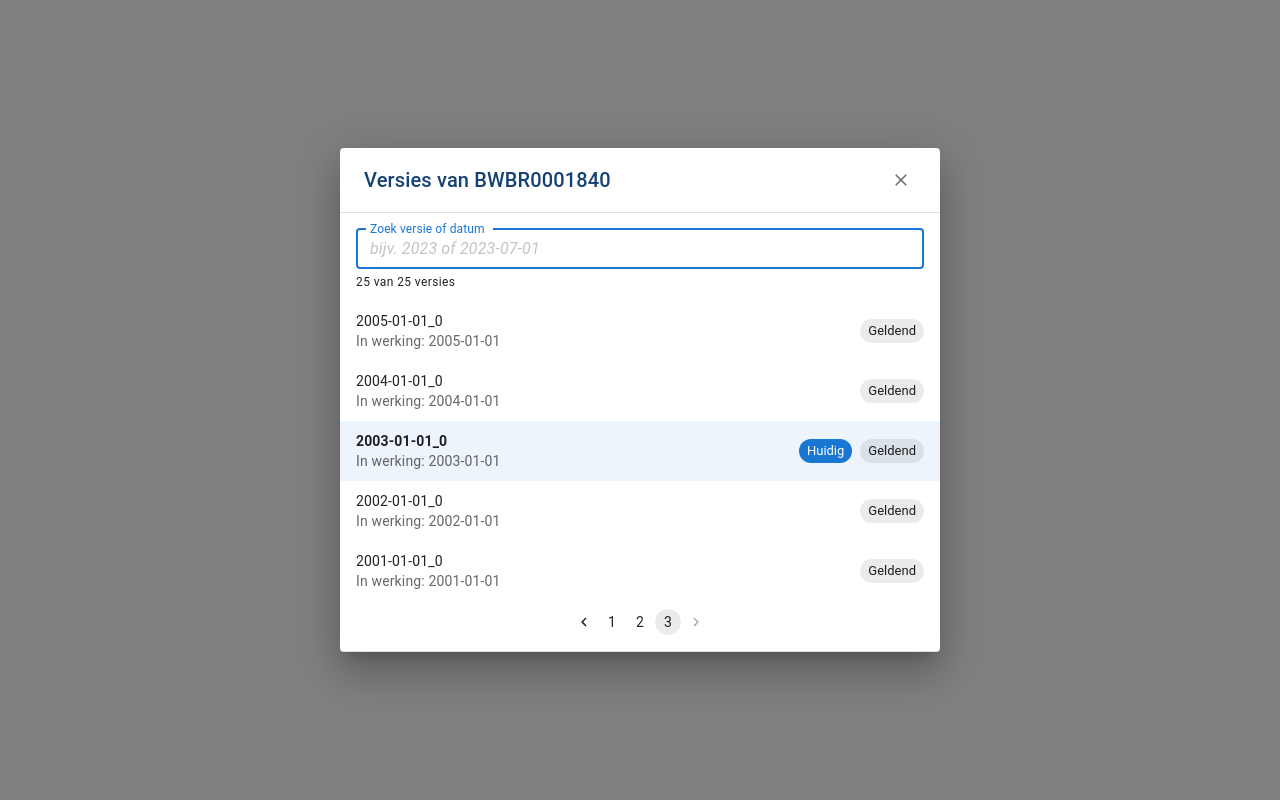
it: BwbExpressionsModal › filters by search and returns to the first page
This screenshot has width=1280, height=800.
Expected: the text "2003-01-01_0" is shown, 356,433 -> 447,449
Type "201" into the search field labelled "Zoek versie of datum" at (640, 249), box 356,229 -> 924,269
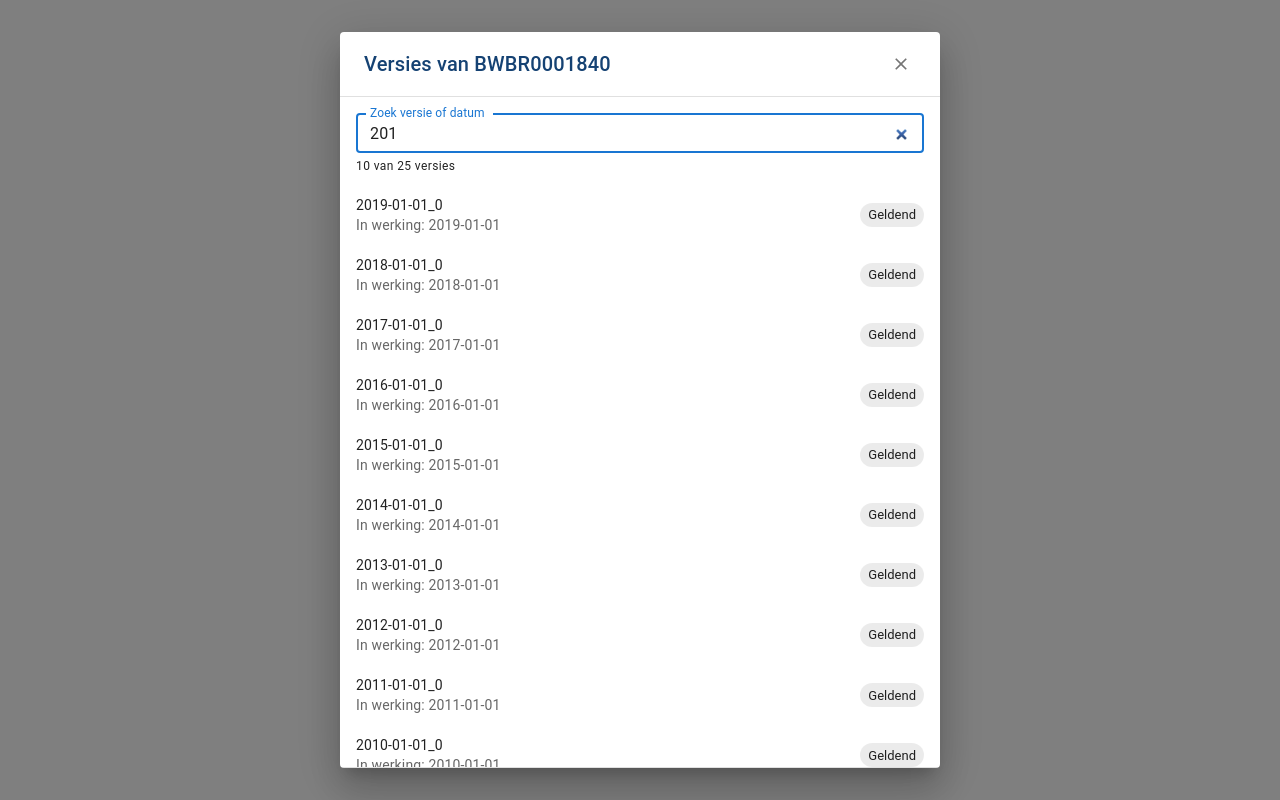
Result: the text "10 van 25 versies" is shown at 356,159 -> 456,173
Result: the text "2019-01-01_0" is shown at 356,197 -> 443,213
Result: the link "2003-01-01_0" is gone
